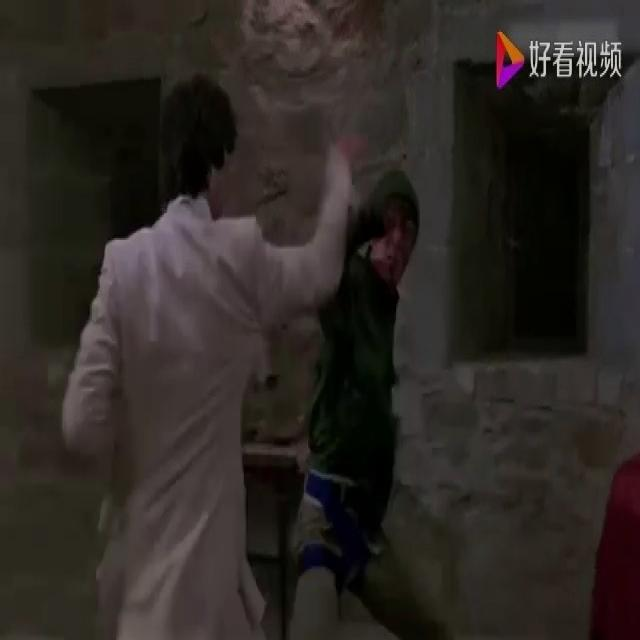fight: (57, 71, 427, 638)
